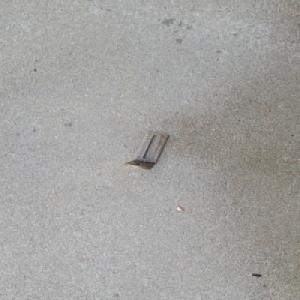MetalPart: (123, 131, 170, 169)
